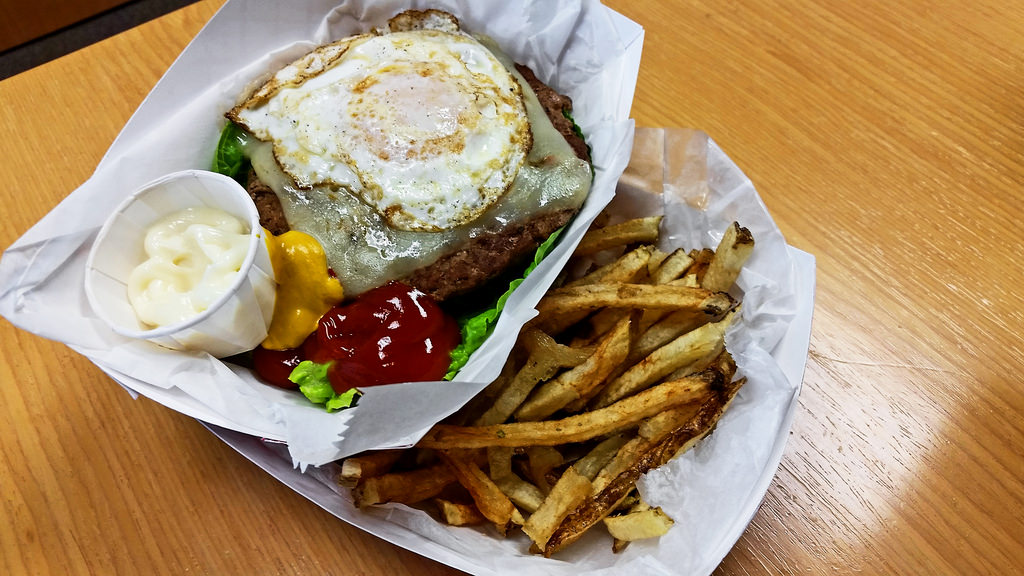fried egg: (247, 57, 550, 203)
